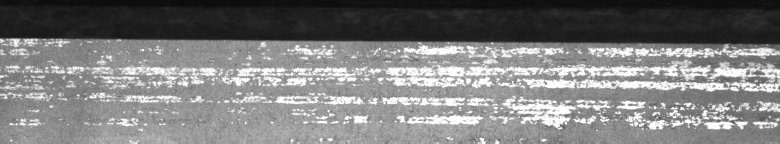kb: (4, 32, 776, 132)
